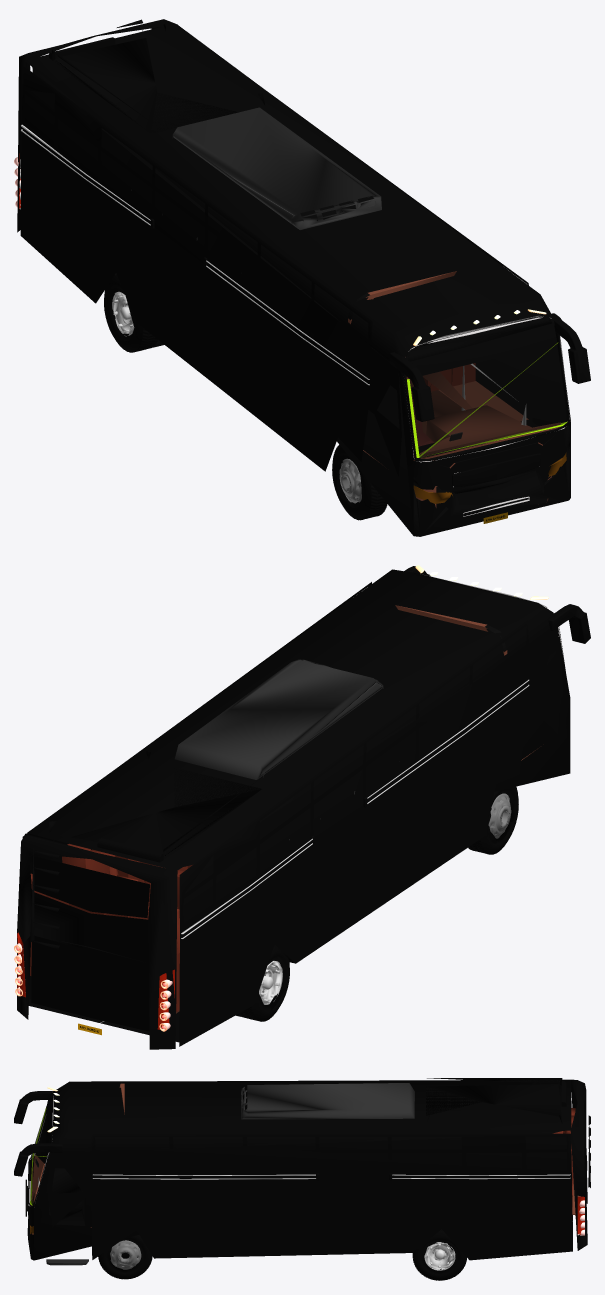
The model's file is kl_pvtbus2.glb.
The picture shows the model from 3 angles, top to bottom: view 1: azimuth 30°, elevation 25°; view 2: azimuth 150°, elevation 25°; view 3: azimuth 270°, elevation 25°; orthographic projection. The views are drawn at different scales.
Parts seen in each view (by area): view 1: body_40, body_30, body_33 (×2), body_2 (×2), body_32, body_26, body_37, body_4 (×2), body_13 (×2), spin (×2), body_38, body_0 (×2) (+5 smaller); view 2: body_40, body_30, body_2, body_37, body_4 (×2), body_33, body_39, spin (×3), body_18 (×2), body_24, body_0, body_5 (+1 smaller); view 3: body_40, body_30, body_2, body_37, spin (×4), body_33, body_4 (×2), body_24, body_0, body_1 (×2), body_32, body_26 (+2 smaller).
Part boxes in pixels (left/top/right/bottom): body_40: left=17, top=19, right=570, bottom=536; body_30: left=21, top=84, right=397, bottom=414; body_33 (×2): left=28, top=24, right=570, bottom=536; body_2 (×2): left=172, top=107, right=381, bottom=229; body_32: left=410, top=343, right=566, bottom=457; body_26: left=410, top=343, right=566, bottom=456; body_37: left=21, top=66, right=528, bottom=476; body_4 (×2): left=52, top=22, right=264, bottom=133; body_13 (×2): left=348, top=271, right=560, bottom=507; spin (×2): left=104, top=274, right=387, bottom=520; body_38: left=410, top=323, right=557, bottom=375; body_0 (×2): left=389, top=313, right=590, bottom=421; body_40: left=17, top=569, right=570, bottom=1049; body_30: left=22, top=628, right=556, bottom=940; body_2: left=174, top=659, right=382, bottom=779; body_37: left=27, top=582, right=561, bottom=938; body_4 (×2): left=49, top=751, right=261, bottom=859; body_33: left=31, top=634, right=569, bottom=868; body_39: left=31, top=855, right=149, bottom=918; spin (×3): left=235, top=786, right=518, bottom=1021; body_18 (×2): left=24, top=843, right=192, bottom=1011; body_24: left=181, top=679, right=529, bottom=938; body_0: left=404, top=566, right=590, bottom=643; body_5: left=97, top=838, right=163, bottom=862; body_40: left=28, top=1079, right=587, bottom=1260; body_30: left=54, top=1136, right=571, bottom=1196; body_2: left=241, top=1083, right=414, bottom=1119; body_37: left=48, top=1081, right=571, bottom=1226; spin (×4): left=98, top=1229, right=466, bottom=1280; body_33: left=28, top=1079, right=570, bottom=1260; body_4 (×2): left=426, top=1078, right=562, bottom=1123; body_24: left=92, top=1174, right=570, bottom=1179; body_0: left=14, top=1091, right=62, bottom=1176; body_1 (×2): left=49, top=1168, right=85, bottom=1225; body_32: left=30, top=1109, right=45, bottom=1204; body_26: left=31, top=1109, right=45, bottom=1203.
Bounding box in the file's own units: 2.53 × 3.22 × 10.6.
Materials: 41 (1 with a texture image).
